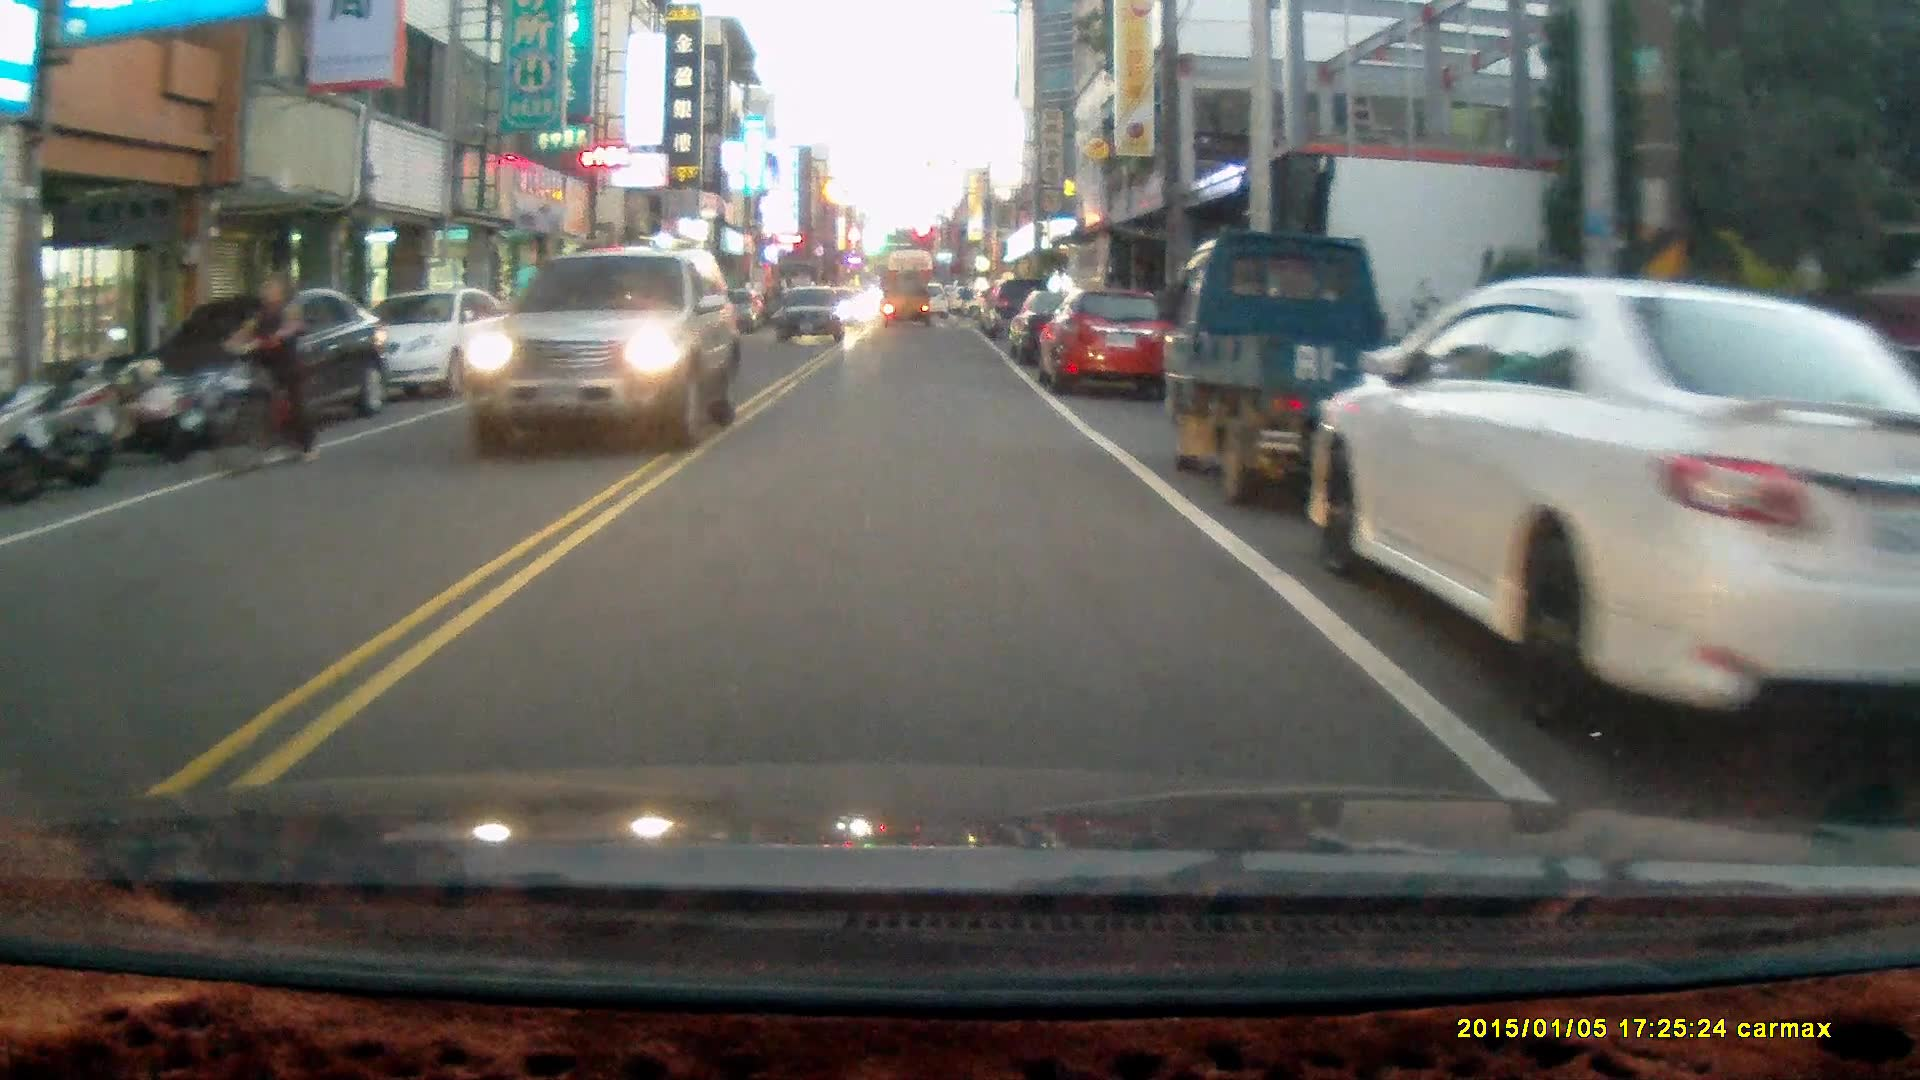rider: (214, 266, 320, 475)
vehicle: (1308, 274, 1920, 744), (1165, 226, 1472, 509), (460, 247, 742, 452), (132, 288, 384, 435), (311, 287, 502, 402), (1042, 287, 1174, 397), (775, 284, 847, 346), (880, 269, 933, 332)
